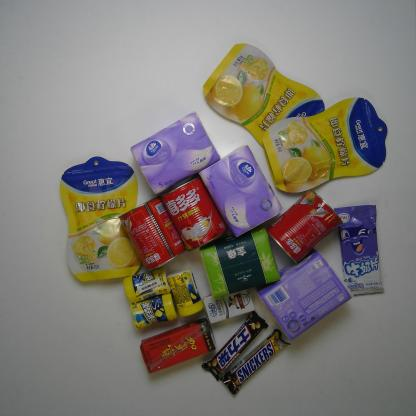Candy: (334, 203, 384, 297)
Canned Food: (266, 189, 342, 265), (161, 174, 226, 252), (118, 196, 186, 269)
Chocolate: (201, 309, 269, 382), (218, 328, 292, 394)
Dried Fruit: (202, 42, 326, 154), (262, 96, 387, 194), (58, 156, 143, 282)
Drink: (138, 316, 217, 376)
Gum: (120, 266, 171, 303), (166, 268, 204, 316), (130, 294, 178, 327)
Milk: (202, 288, 256, 325)
Tissue: (258, 249, 351, 342), (199, 144, 284, 239), (130, 110, 219, 195), (199, 228, 280, 299)
